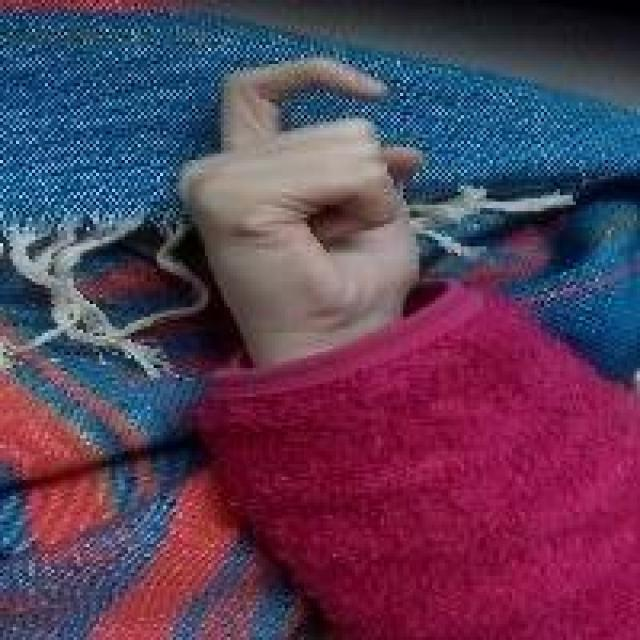X: (172, 56, 426, 328)
